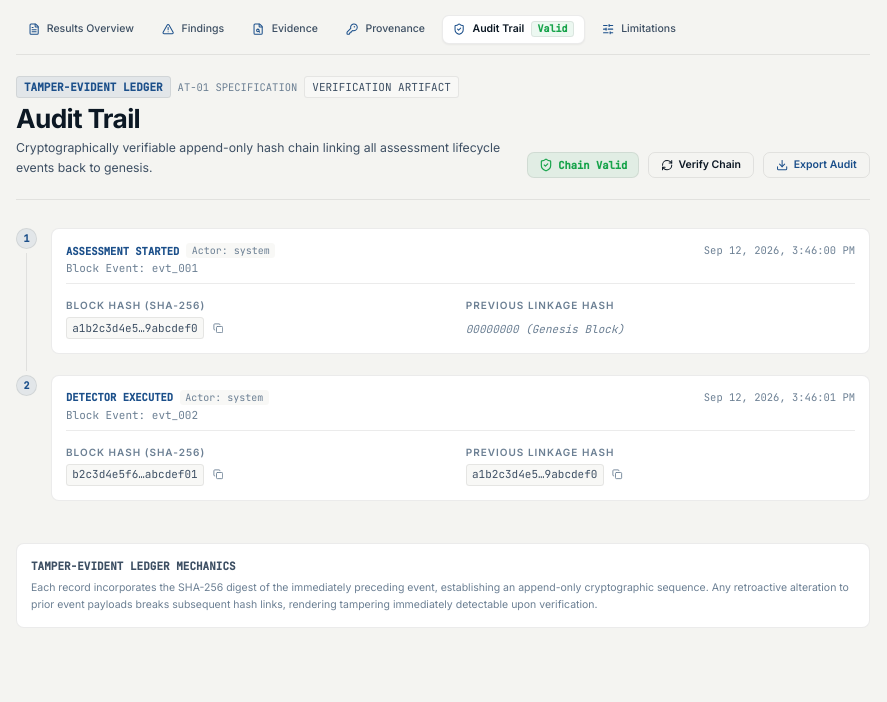
PRAMAAN v1 Full Browser & DOM E2E QA › verifies Findings, Evidence, and Audit Trail pages
Expected: the heading "Audit Trail" is shown, [16,103,140,134]
Expected: the text "00000000 (Genesis Block)" is shown, [466,322,624,336]
// Verify Chain button
Click the button "Verify Chain": coordinates (701, 165) [648,152,754,178]
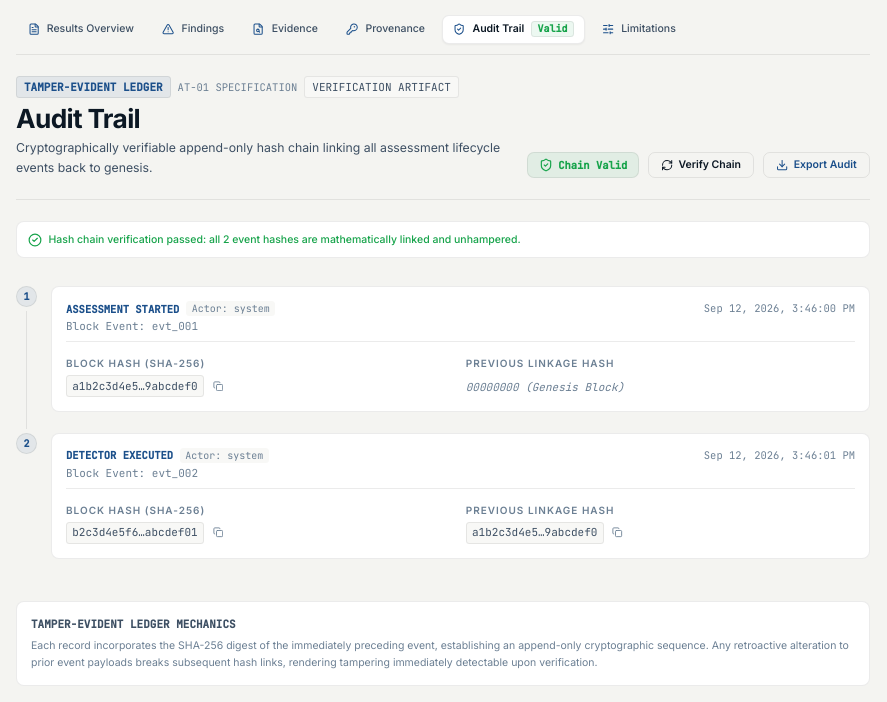
Expected: the text "Hash chain verification passed" is shown, [48,233,223,246]
